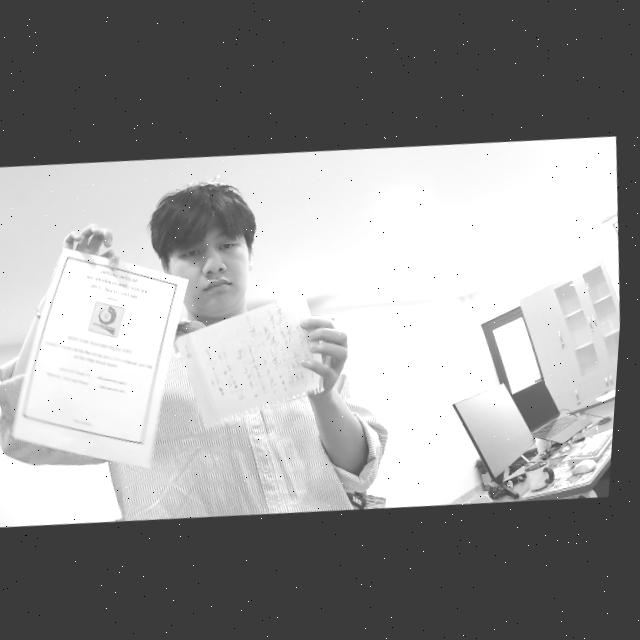document: (11, 248, 188, 467), (175, 293, 324, 427)
face: (175, 227, 251, 320)
